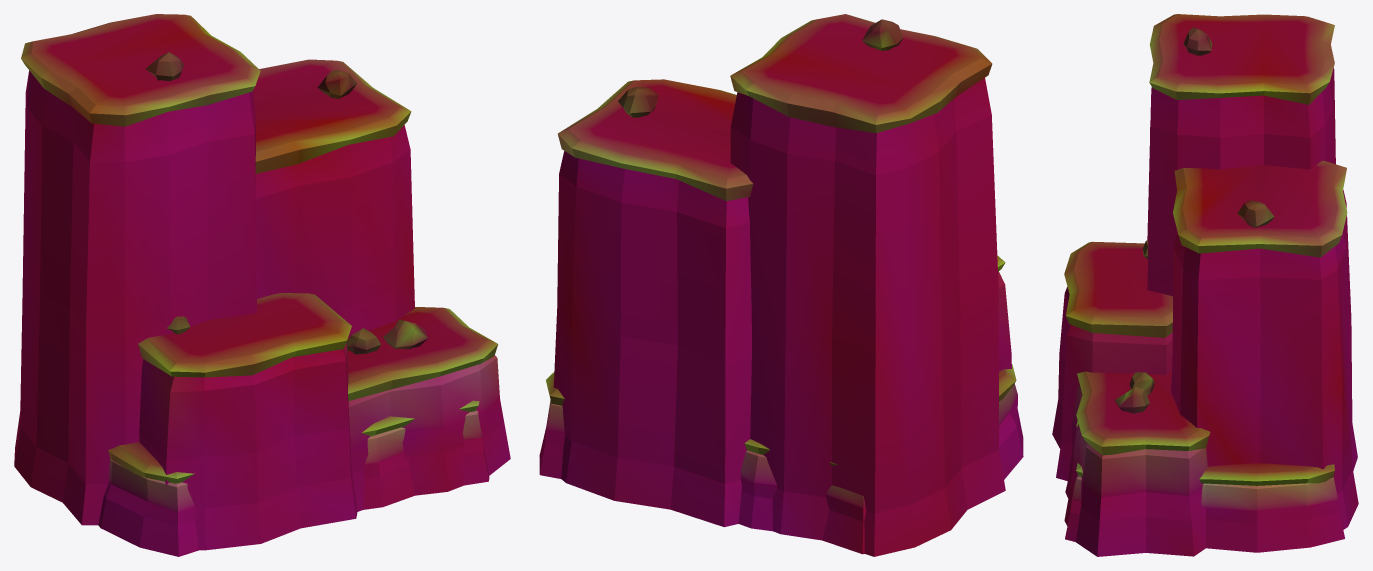
File: Cliff_Cluster_Tall.glb
3 views of the same model, side by side, from view 1: azimuth 30°, elevation 25°; view 2: azimuth 150°, elevation 25°; view 3: azimuth 270°, elevation 25° (orthographic). The views are drawn at different scales.
Visible parts, largest first — view 1: Cliff_Cluster_Tall; view 2: Cliff_Cluster_Tall; view 3: Cliff_Cluster_Tall.
Boxes of the visible parts, box(x1,y1,x2,y2) form: Cliff_Cluster_Tall: box(14, 14, 510, 556); Cliff_Cluster_Tall: box(539, 14, 1023, 556); Cliff_Cluster_Tall: box(1052, 14, 1358, 556).
Size of the model in its own units: 6.84 by 7.33 by 5.09.
